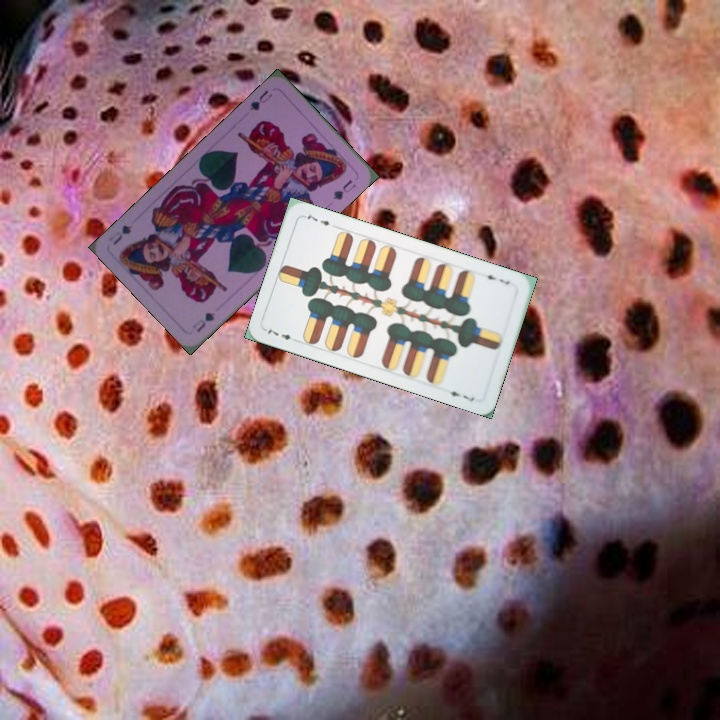E7: (262, 325, 301, 345), (479, 269, 512, 287)
GU: (246, 86, 275, 113), (188, 308, 217, 335)
